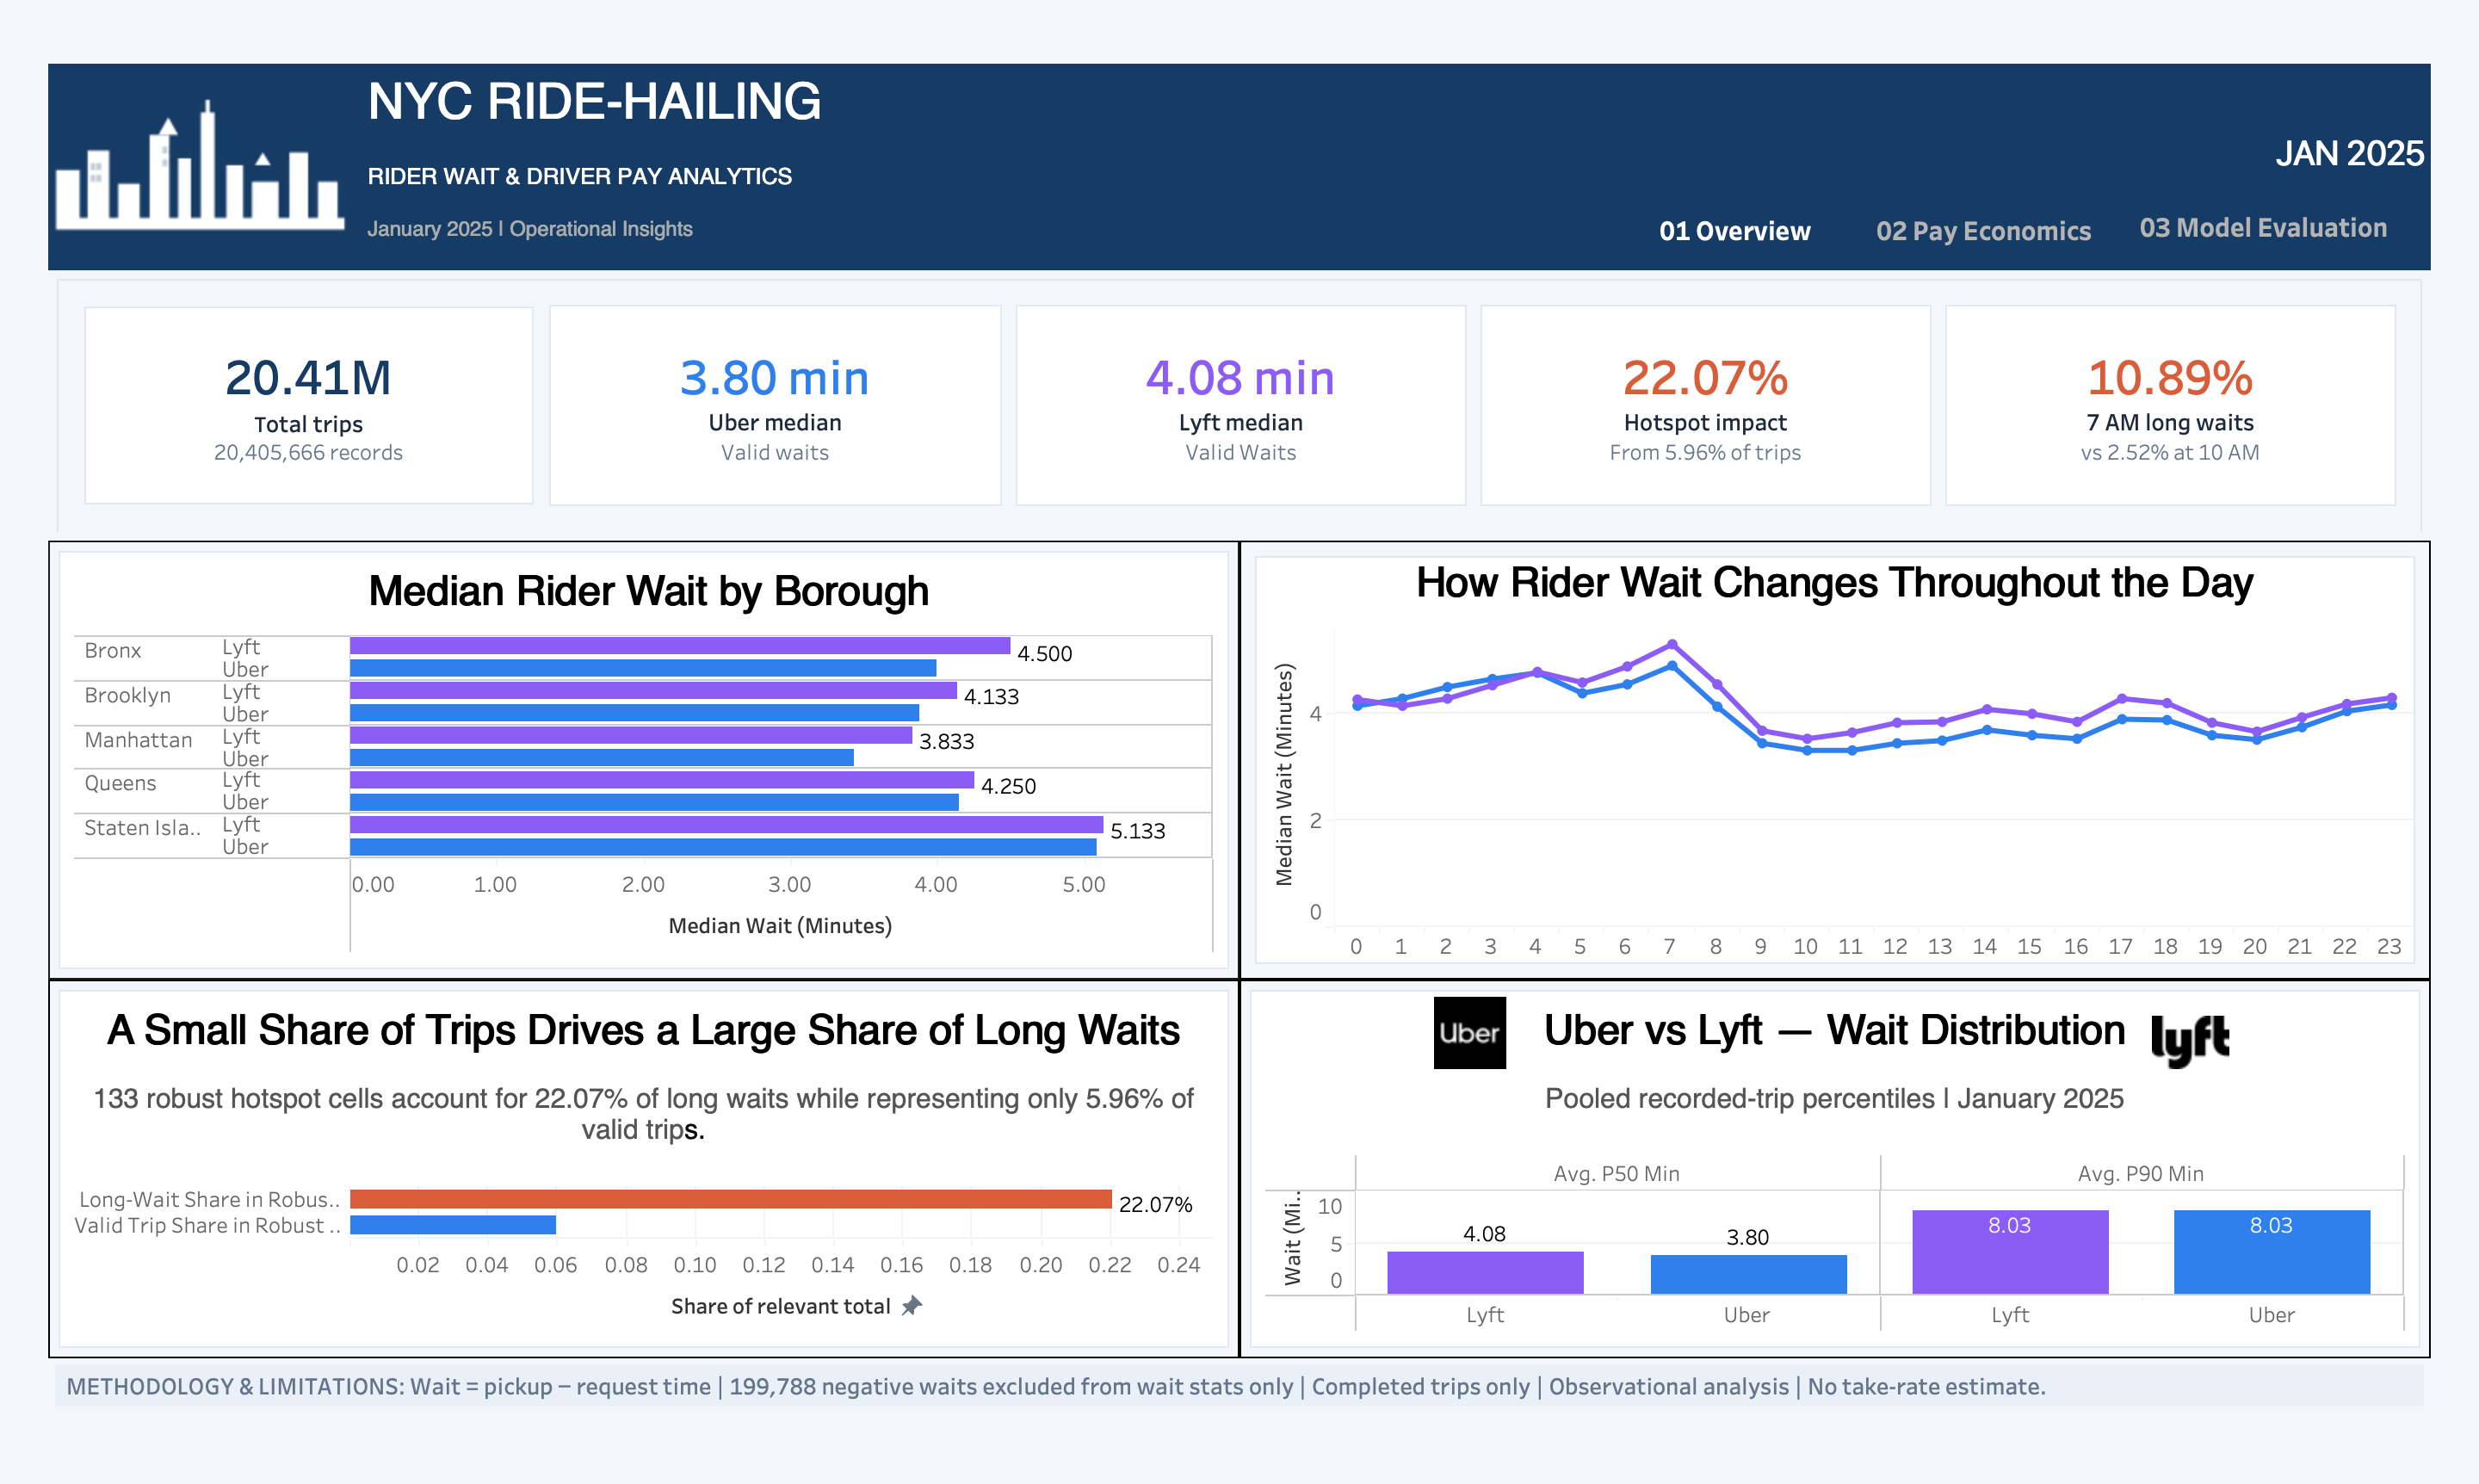

The dashboard page shown, as its layout file describes it:
{"tool":"tableau","page":{"name":"01_Executive Overview","canvas":[1400,800],"ordinal":0},"visuals":[{"type":"image","param":"Image/nyc_skyline_white.svg","box":[8,8,183,119.5]},{"type":"text","box":[191,8,634.5,119.5]},{"type":"text","box":[825.5,8,566.5,119.5]},{"type":"dashboard-object","box":[1051,82,165,45]},{"type":"dashboard-object","box":[908,85,161,39]},{"type":"dashboard-object","box":[1203,88,184,30]},{"type":"text","box":[24,144,271,125]},{"type":"text","box":[295,144,271,125]},{"type":"text","box":[566,144,270,125]},{"type":"text","box":[836,144,270,125]},{"type":"text","box":[1106,144,270,125]},{"type":"worksheet","title":"01_Borough Wait Comparison","mark":"Bar","rows":["pu_borough","company"],"cols":["p50_min"],"box":[9,286.2,690,253.1]},{"type":"worksheet","title":"02_Hourly Wait Trend","mark":"Line","rows":["p50_min"],"cols":["request_hour"],"box":[701,286.2,690,253.1]},{"type":"worksheet","title":"03_Hotspot Concentration","mark":"Bar","box":[9,541.3,690,217.7]},{"type":"worksheet","title":"04_Uber vs Lyft Wait Profile","mark":"Automatic","cols":["company"],"box":[701,541.3,690,217.7]},{"type":"image","param":"Image/uber_logo.png","box":[811,550,46,42]},{"type":"image","param":"Image/lyft_logo.png","box":[1225,561,55,31]},{"type":"text","box":[8,760,1384,32]}]}

Visuals, with their boxes on the page's 1400x800 design canvas (x1, y1, x2, y2). These are canvas units, not pixel positions in the 2479x1484 screenshot, which may show the page scaled, cropped or inside an application window:
image: <box>8,8,191,128</box>
text: <box>191,8,826,128</box>
text: <box>826,8,1392,128</box>
dashboard-object: <box>1051,82,1216,127</box>
dashboard-object: <box>908,85,1069,124</box>
dashboard-object: <box>1203,88,1387,118</box>
text: <box>24,144,295,269</box>
text: <box>295,144,566,269</box>
text: <box>566,144,836,269</box>
text: <box>836,144,1106,269</box>
text: <box>1106,144,1376,269</box>
"01_Borough Wait Comparison" worksheet (Bar marks): <box>9,286,699,539</box>
"02_Hourly Wait Trend" worksheet (Line marks): <box>701,286,1391,539</box>
"03_Hotspot Concentration" worksheet (Bar marks): <box>9,541,699,759</box>
"04_Uber vs Lyft Wait Profile" worksheet: <box>701,541,1391,759</box>
image: <box>811,550,857,592</box>
image: <box>1225,561,1280,592</box>
text: <box>8,760,1392,792</box>
